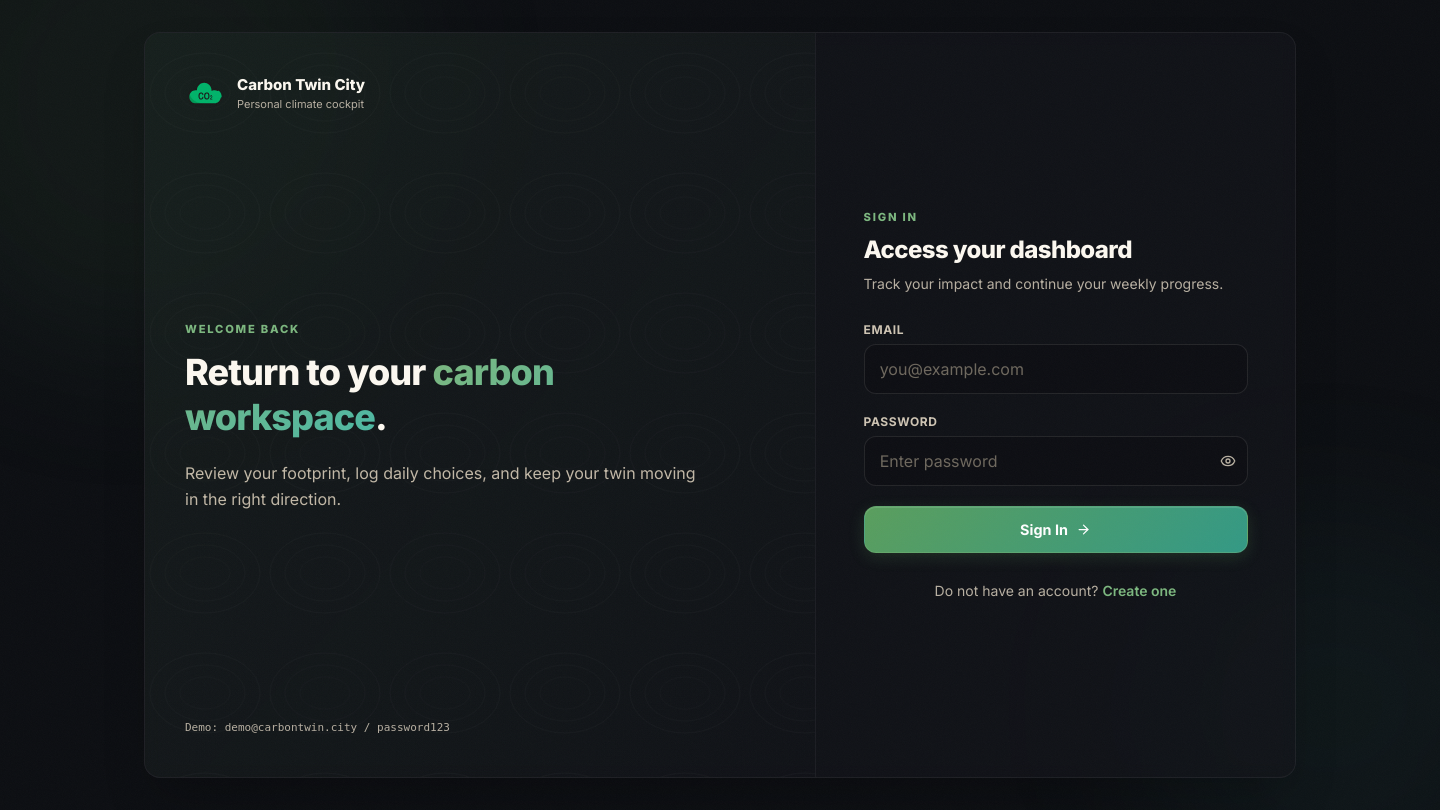
Test: Login Page › has a toggle button for password visibility
Click the button named "show password".
click(1228, 461)  # box x1=1220 y1=453 x2=1236 y2=469
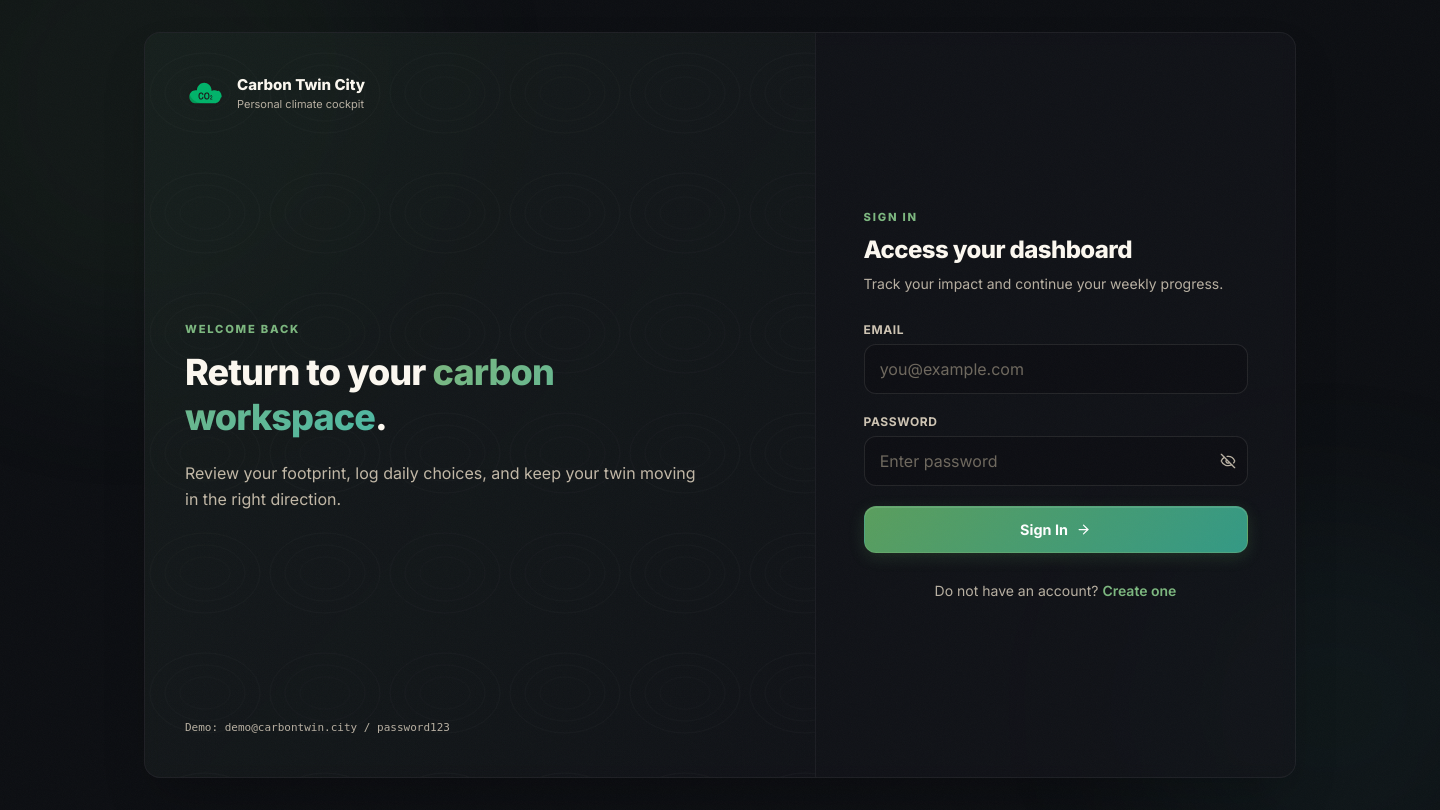
Expected: the button named "hide password" is shown, x1=1220 y1=453 x2=1236 y2=469
